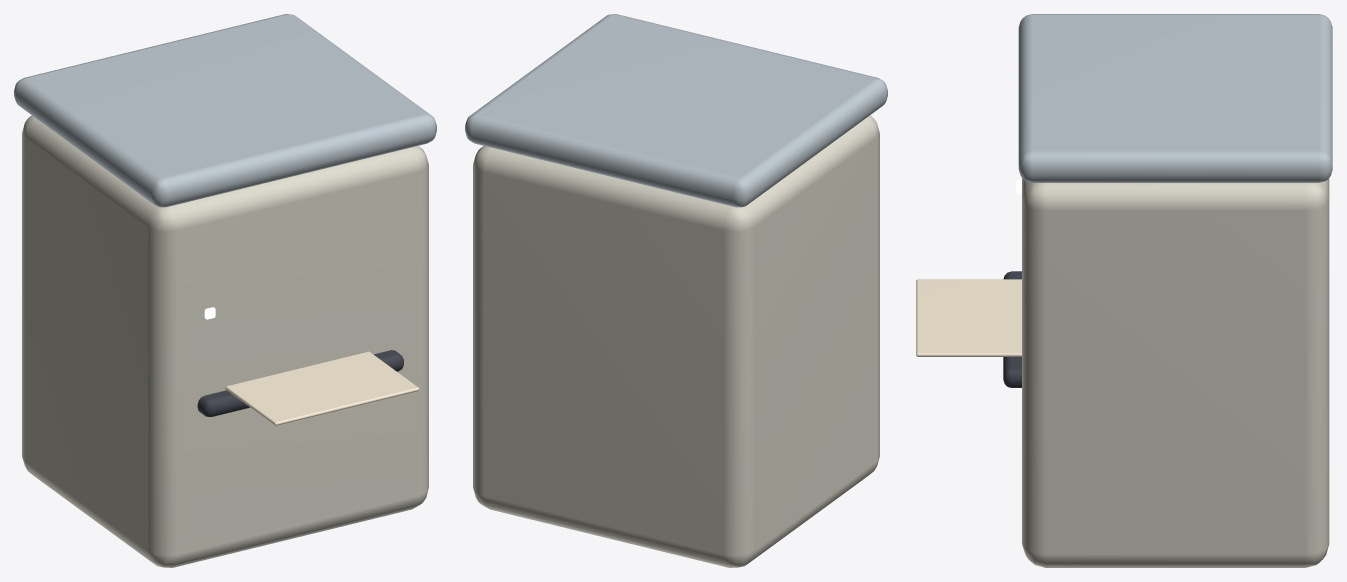
File: officeCopyMachineWhiteAni.glb
The picture shows the model from 3 angles, left to right: view 1: azimuth 30°, elevation 25°; view 2: azimuth 150°, elevation 25°; view 3: azimuth 270°, elevation 25°; orthographic projection. The views are drawn at different scales.
Parts seen in each view (by area): view 1: Office machine, Lid, Printed page, Paper output; view 2: Office machine, Lid; view 3: Office machine, Lid, Printed page, Paper output.
Boxes of the visible parts, x1,y1,x2,y2 form: Office machine: [22, 115, 428, 567]; Lid: [14, 14, 436, 207]; Printed page: [225, 351, 419, 425]; Paper output: [197, 350, 403, 416]; Office machine: [473, 115, 879, 567]; Lid: [465, 14, 887, 207]; Office machine: [1022, 178, 1329, 567]; Lid: [1018, 14, 1332, 182]; Printed page: [916, 279, 1021, 356]; Paper output: [1003, 271, 1021, 387].
Bounding box in the file's own units: 1.02 × 1.36 × 1.22.
